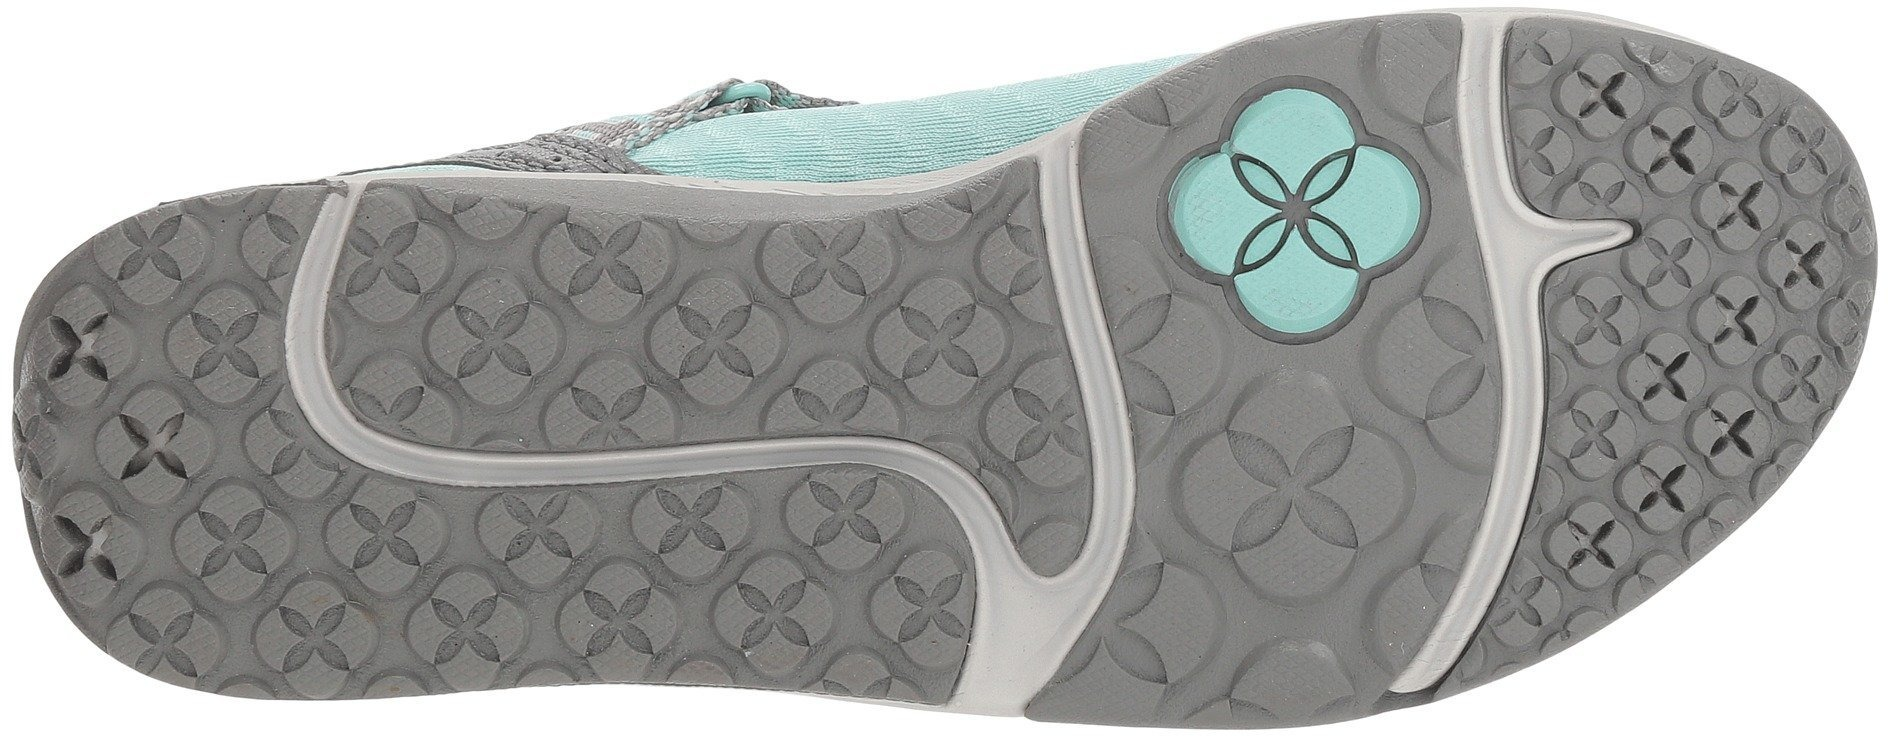quad: (1539, 86, 1849, 391), (1540, 383, 1725, 553)
